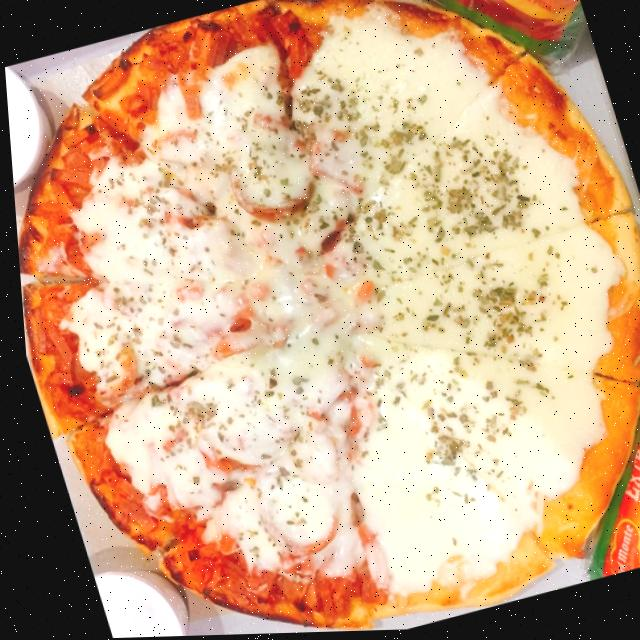pepperoni: (175, 41, 324, 235), (239, 456, 347, 565)
pizza: (0, 0, 640, 640)
